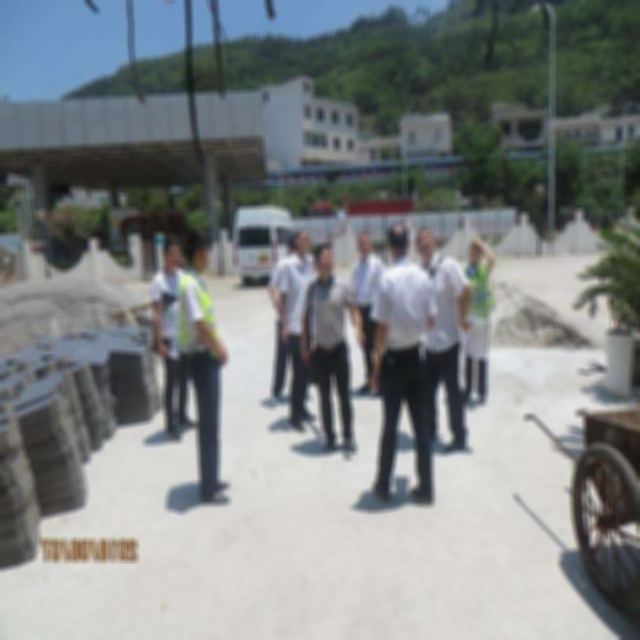Con_Chaleco: (176, 269, 221, 356)
Sin_Chaleco: (374, 259, 434, 357), (303, 276, 350, 354)
